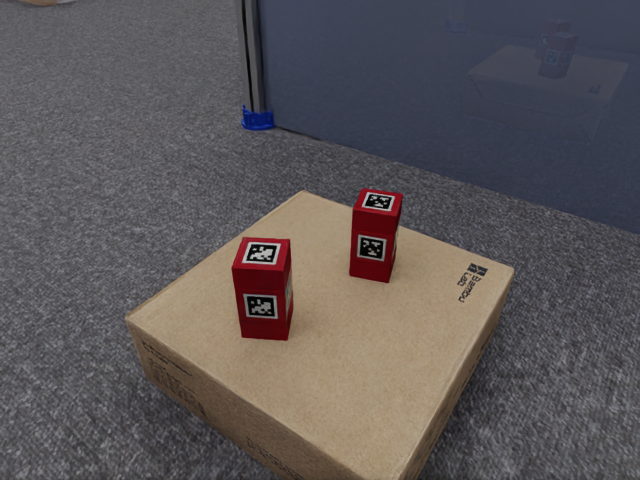puck_red_box: (231, 237, 293, 340), (349, 188, 402, 282)
